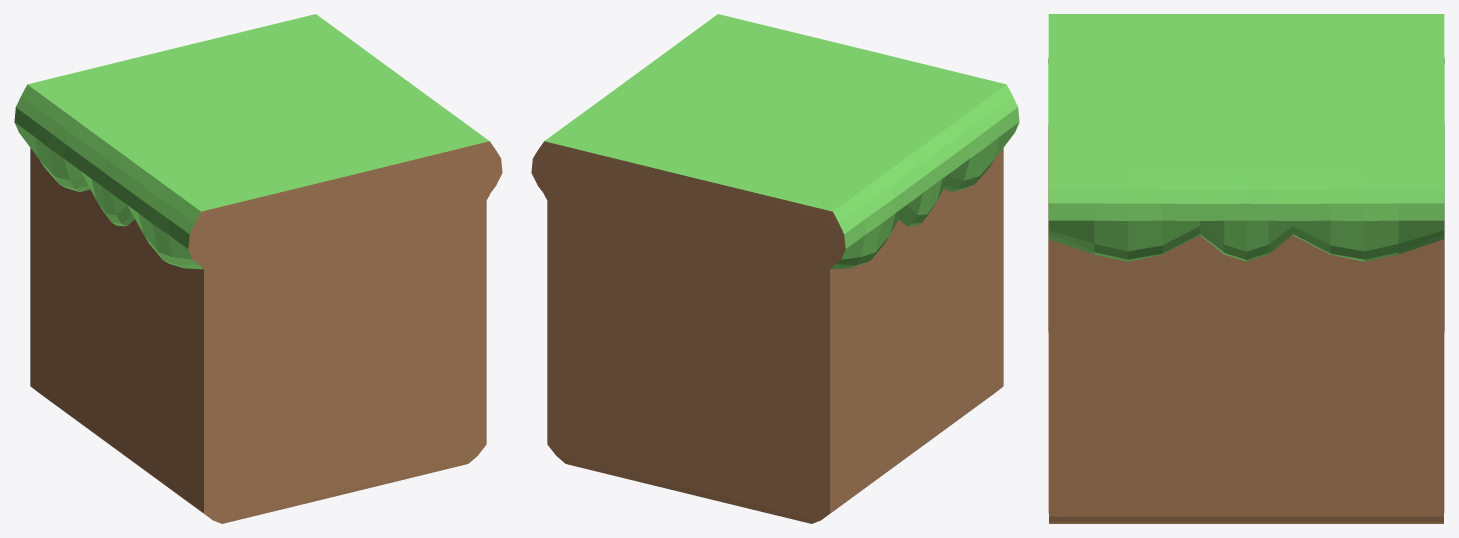
Rendered from V1.Ground.Double.Mid.fbx.
3 renders of one model, left to right at view 1: azimuth 30°, elevation 25°; view 2: azimuth 150°, elevation 25°; view 3: azimuth 270°, elevation 25°, orthographic. The views are drawn at different scales.
Visible parts, largest first — view 1: V1.Corner.002; view 2: V1.Corner.002; view 3: V1.Corner.002.
Part boxes in pixels (x1=…): V1.Corner.002: x1=14, y1=14, x2=502, y2=523; V1.Corner.002: x1=531, y1=14, x2=1019, y2=523; V1.Corner.002: x1=1048, y1=14, x2=1444, y2=523.
Bounding box in the file's own units: 209 × 200 × 199.
